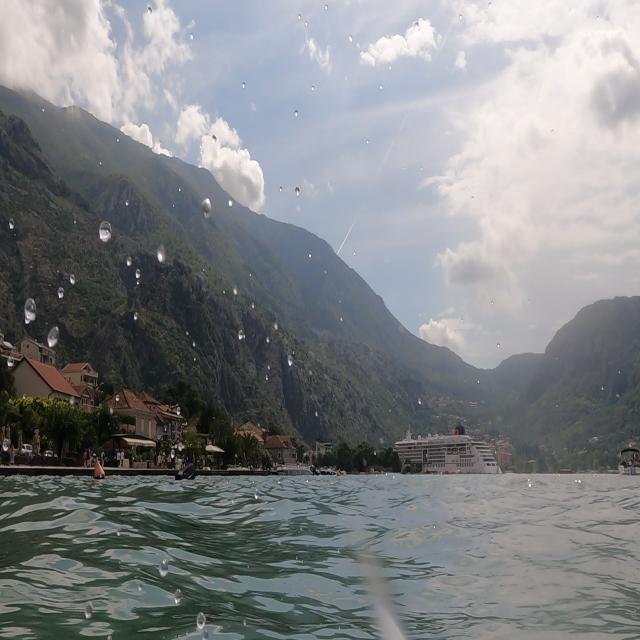boat: (391, 421, 503, 477)
buoy: (167, 452, 202, 493), (90, 450, 110, 486)
